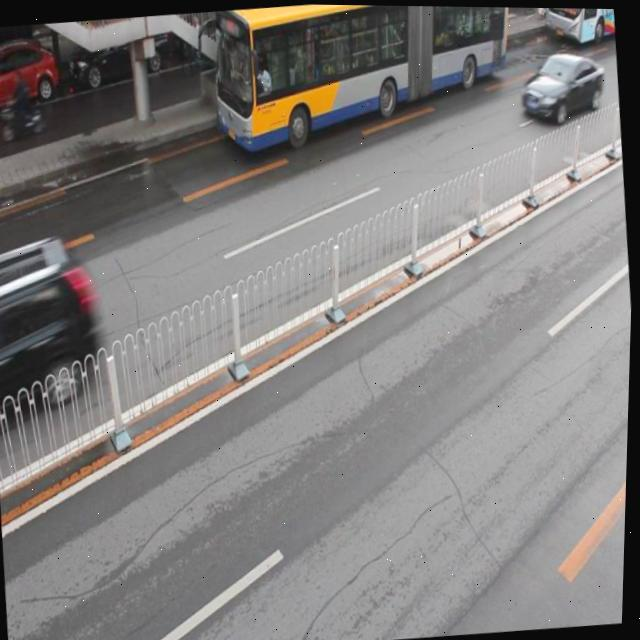car: (0, 228, 108, 415), (64, 13, 169, 83), (517, 45, 607, 125), (0, 35, 62, 118), (176, 7, 253, 64), (267, 3, 350, 44)
van: (210, 2, 518, 145), (543, 6, 615, 43)
